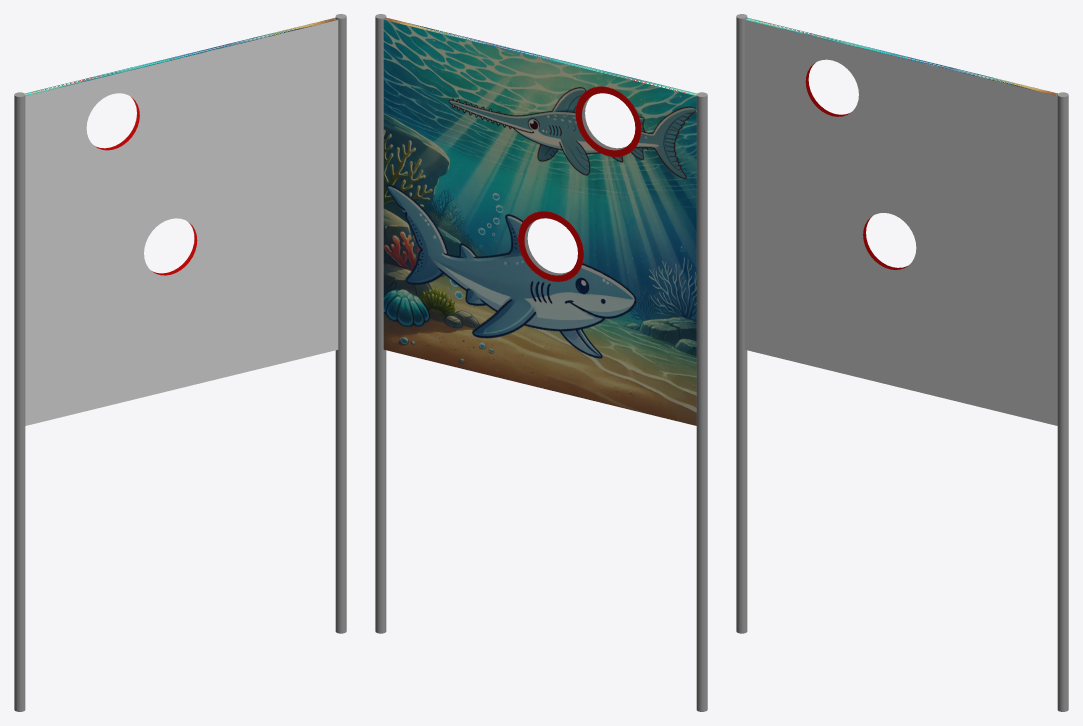
The model's file is taggingtarget.dae.
3 renders of one model, left to right at view 1: azimuth 30°, elevation 25°; view 2: azimuth 150°, elevation 25°; view 3: azimuth 330°, elevation 25°, orthographic.
Visible parts, largest first — view 1: Cube, Cylinder.002; view 2: Cube, Cylinder.002; view 3: Cube, Cylinder.002.
Part boxes in pixels (<box>): Cube: <box>25,17,338,425</box>; Cylinder.002: <box>14,14,346,711</box>; Cube: <box>383,17,696,425</box>; Cylinder.002: <box>375,14,707,711</box>; Cube: <box>744,17,1057,425</box>; Cylinder.002: <box>736,14,1068,711</box>.
Bounding box in the file's own units: 0.653 × 0.019 × 1.16.
2 materials, 1 textured.
